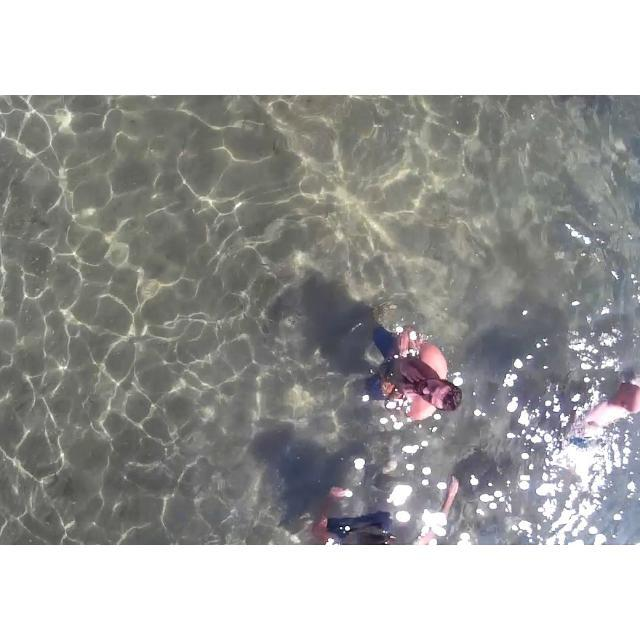human: (352, 307, 465, 432)
